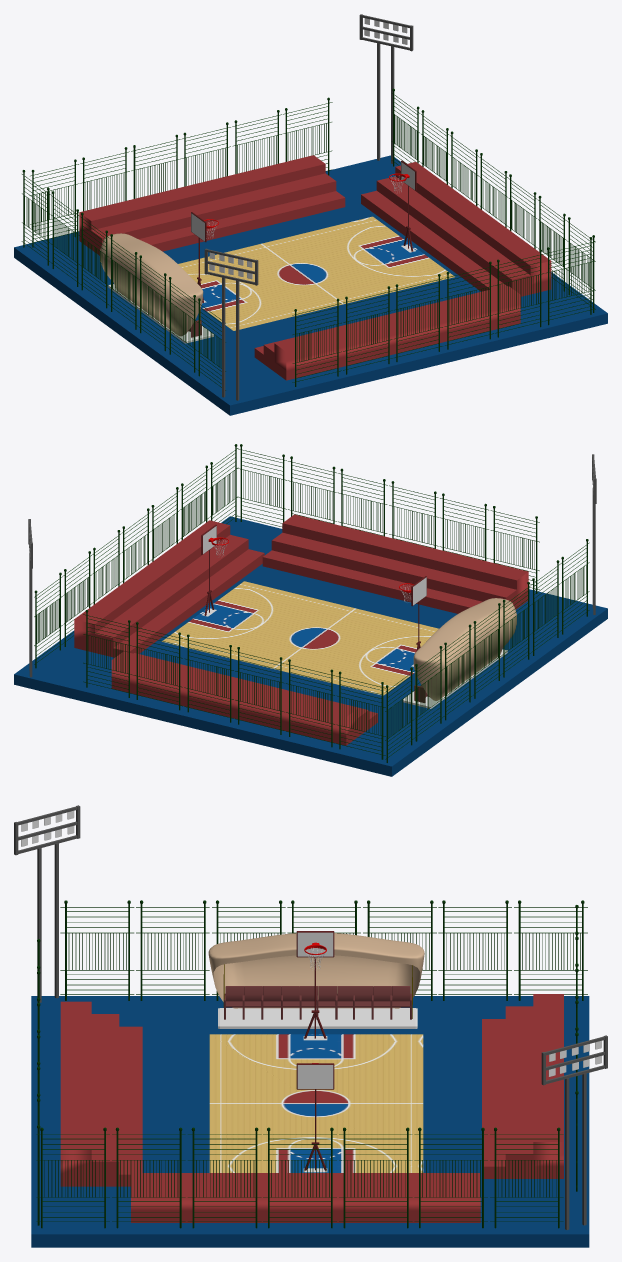
File: basketball court fbx.fbx
The picture shows the model from 3 angles, top to bottom: view 1: azimuth 30°, elevation 25°; view 2: azimuth 150°, elevation 25°; view 3: azimuth 270°, elevation 25°; orthographic projection. The views are drawn at different scales.
Visible parts, largest first — view 1: basketball_court:ground, basketball_court:court, basketball_court:stairs14, basketball_court:stairs13, basketball_court:stairs, basketball_court:shade, basketball_court:light, basketball_court:light3, basketball_court:fence48, basketball_court:fence43, basketball_court:fence47, basketball_court:fence45 (+24 smaller); view 2: basketball_court:ground, basketball_court:court, basketball_court:stairs, basketball_court:stairs13, basketball_court:stairs14, basketball_court:shade, basketball_court:fence49, basketball_court:fence52, basketball_court:fence53, basketball_court:fence54, basketball_court:fence48, basketball_court:fence50 (+25 smaller); view 3: basketball_court:ground, basketball_court:court, basketball_court:stairs13, basketball_court:stairs, basketball_court:stairs14, basketball_court:shade, basketball_court:players_seats, basketball_court:base, basketball_court:light3, basketball_court:light, basketball_court:fence40, basketball_court:fence41 (+14 smaller).
Boxes of the visible parts, x1,y1,x2,y2 form: basketball_court:ground: [14, 155, 607, 415]; basketball_court:court: [178, 216, 454, 330]; basketball_court:stairs14: [79, 155, 345, 255]; basketball_court:stairs13: [361, 162, 551, 296]; basketball_court:stairs: [254, 286, 520, 380]; basketball_court:shade: [100, 233, 203, 336]; basketball_court:light: [204, 248, 258, 400]; basketball_court:light3: [359, 14, 413, 163]; basketball_court:fence48: [545, 237, 594, 325]; basketball_court:fence43: [292, 298, 341, 386]; basketball_court:fence47: [495, 249, 544, 337]; basketball_court:fence45: [393, 274, 442, 361]; basketball_court:ground: [14, 516, 607, 776]; basketball_court:court: [162, 581, 438, 695]; basketball_court:stairs: [262, 514, 528, 613]; basketball_court:stairs13: [74, 520, 264, 657]; basketball_court:stairs14: [111, 651, 377, 745]; basketball_court:shade: [413, 598, 516, 700]; basketball_court:fence49: [336, 671, 385, 759]; basketball_court:fence52: [184, 634, 233, 722]; basketball_court:fence53: [133, 622, 182, 710]; basketball_court:fence54: [83, 610, 132, 697]; basketball_court:fence48: [237, 444, 286, 526]; basketball_court:fence50: [286, 659, 335, 747]; basketball_court:ground: [31, 996, 589, 1247]; basketball_court:court: [209, 1034, 423, 1172]; basketball_court:stairs13: [131, 1173, 480, 1222]; basketball_court:stairs: [60, 1001, 142, 1186]; basketball_court:stairs14: [482, 994, 563, 1178]; basketball_court:shade: [208, 933, 424, 1018]; basketball_court:players_seats: [224, 986, 411, 1019]; basketball_court:base: [218, 1008, 417, 1028]; basketball_court:light3: [541, 1035, 607, 1229]; basketball_court:light: [14, 805, 80, 1002]; basketball_court:fence40: [136, 900, 209, 1000]; basketball_court:fence41: [60, 900, 134, 1000].
Bounding box in the file's own units: 2151 × 819 × 2206.
